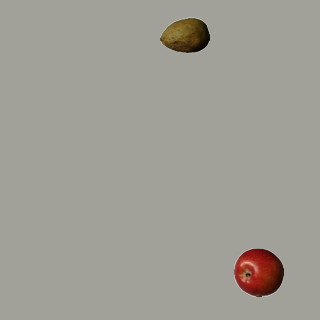Apple Braeburn: (233, 247, 283, 297)
Papaya: (159, 10, 209, 60)
